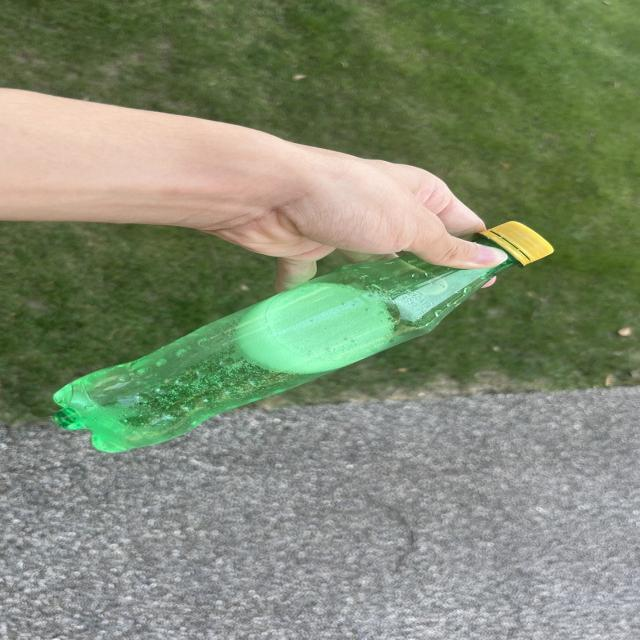medium: (53, 222, 552, 452)
